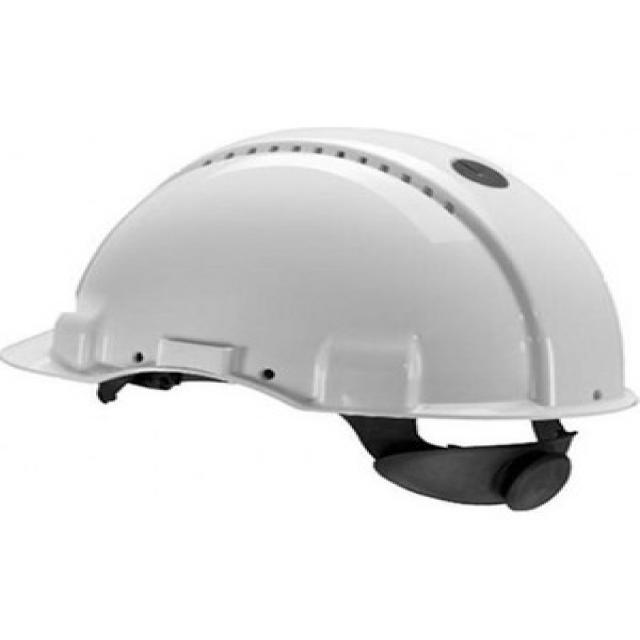construction helmet: (0, 127, 640, 513)
